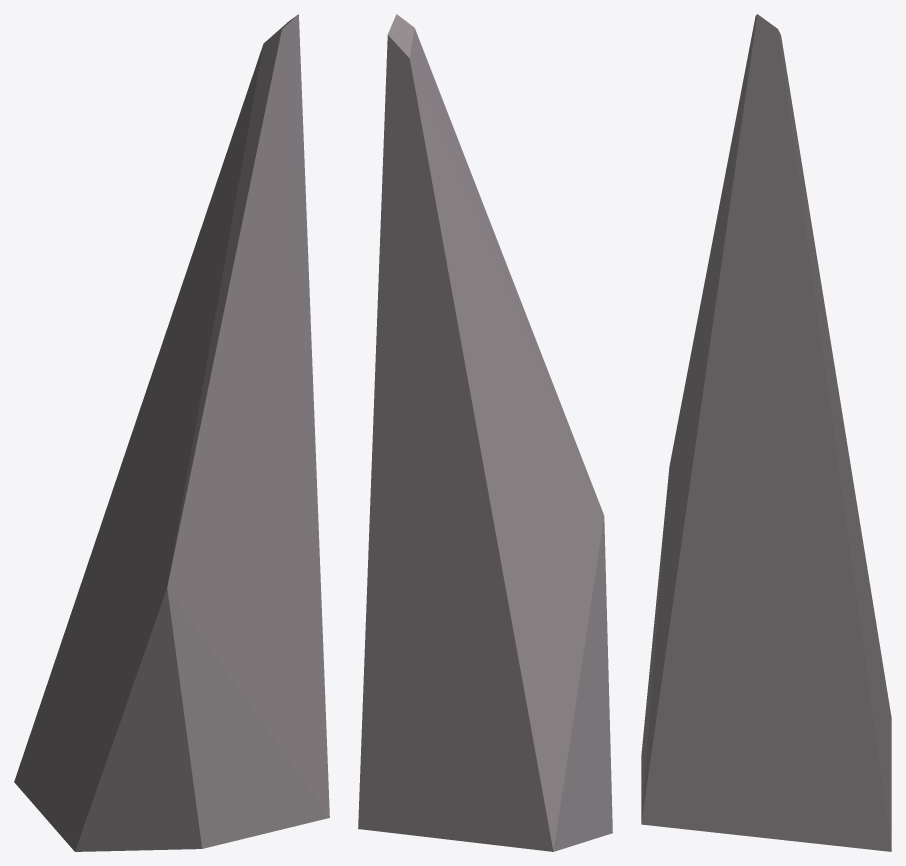
File: Rock_Sharp_s_02.fbx
3 renders of one model, left to right at view 1: azimuth 30°, elevation 25°; view 2: azimuth 150°, elevation 25°; view 3: azimuth 270°, elevation 25°, orthographic. The views are drawn at different scales.
Parts seen in each view (by area): view 1: Rock_Sharp_s_02; view 2: Rock_Sharp_s_02; view 3: Rock_Sharp_s_02.
Boxes of the visible parts, x1,y1,x2,y2 form: Rock_Sharp_s_02: [14, 14, 329, 851]; Rock_Sharp_s_02: [358, 14, 612, 851]; Rock_Sharp_s_02: [641, 14, 891, 851].
Bounding box in the file's own units: 0.2488 × 0.8371 × 0.2236.
